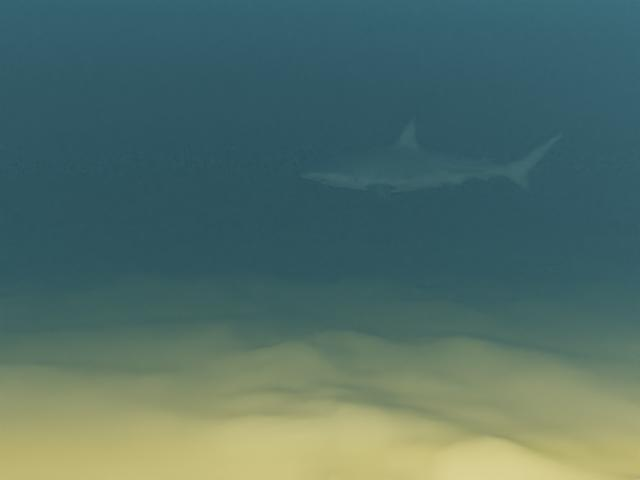Carribean Shark.001: (298, 117, 572, 203)
